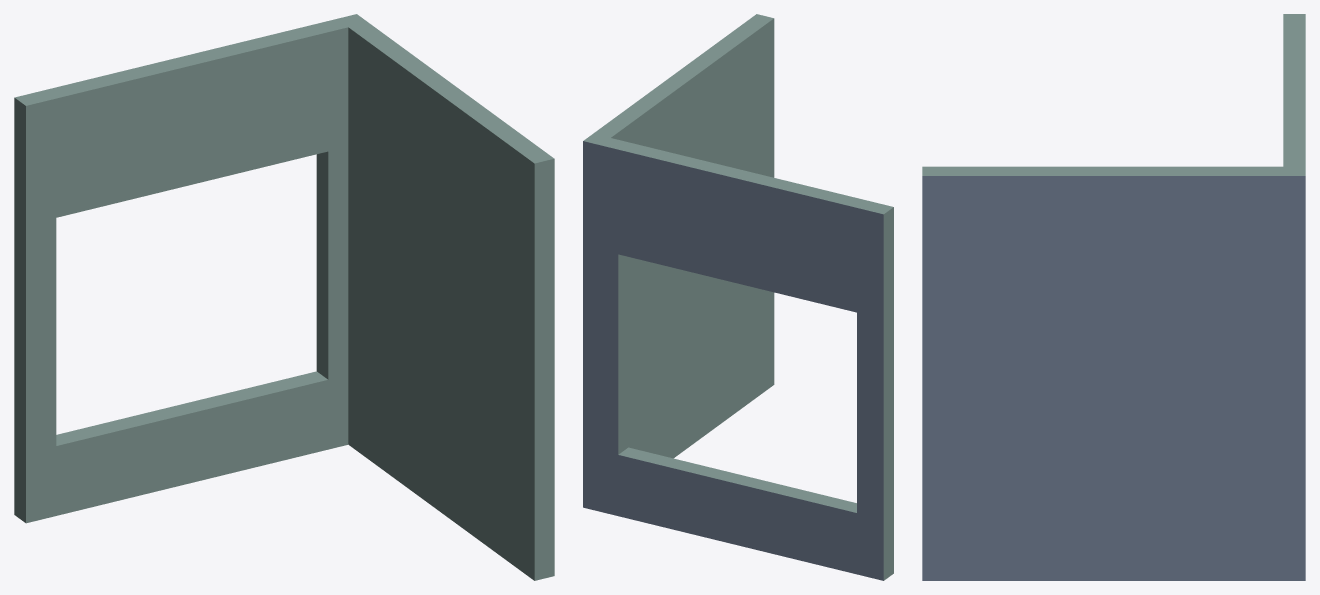
The model's file is Wall3_C5_13.fbx.
3 renders of one model, left to right at view 1: azimuth 30°, elevation 25°; view 2: azimuth 150°, elevation 25°; view 3: azimuth 270°, elevation 25°, orthographic. The views are drawn at different scales.
Parts seen in each view (by area): view 1: Wall3_C5_13; view 2: Wall3_C5_13; view 3: Wall3_C5_13.
Part boxes in pixels (left/top/right/bottom): Wall3_C5_13: left=14, top=14, right=554, bottom=580; Wall3_C5_13: left=583, top=14, right=893, bottom=580; Wall3_C5_13: left=922, top=14, right=1305, bottom=580.
Size of the model in its own units: 258 by 300 by 258.
